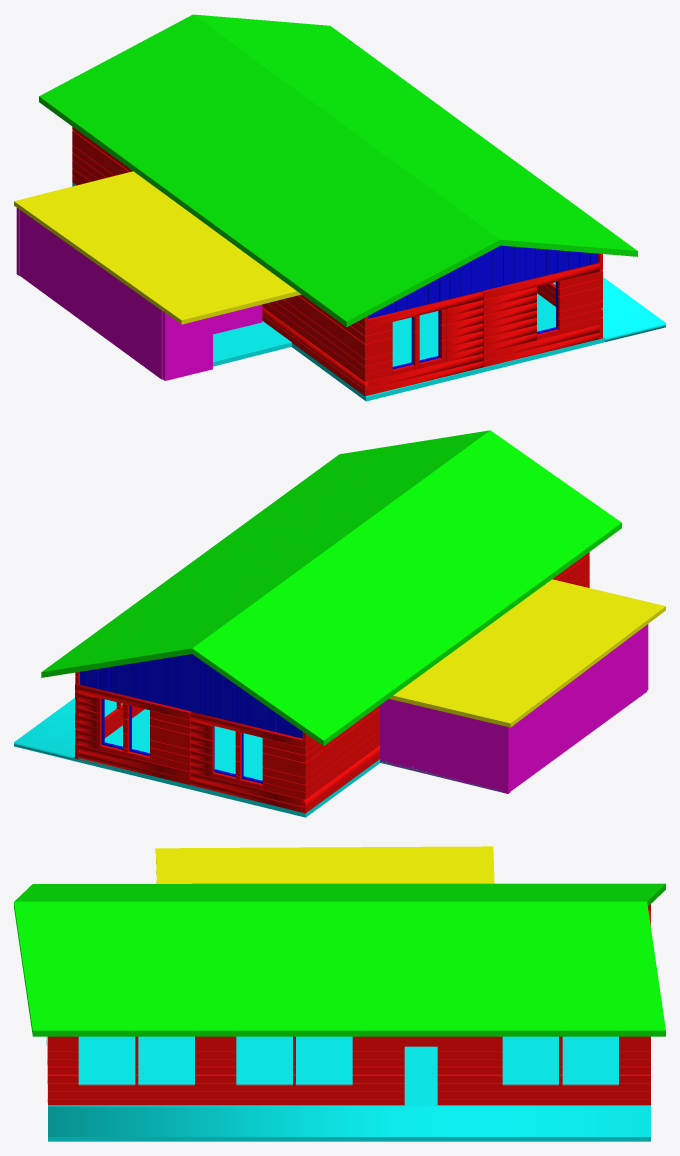
Rendered from Forest Inn.fbx.
The picture shows the model from 3 angles, top to bottom: view 1: azimuth 30°, elevation 25°; view 2: azimuth 150°, elevation 25°; view 3: azimuth 270°, elevation 25°; orthographic projection. The views are drawn at different scales.
Parts seen in each view (by area): view 1: roof, perimetral_walls.157, shed_roof, shed_walls, floor, internal_walls.074, shed_floor; view 2: roof, perimetral_walls.157, shed_roof, shed_walls, internal_walls.074, floor; view 3: roof, floor, perimetral_walls.157, shed_roof.
Part boxes in pixels (x1,y1,x2,y2): roof: (39, 14, 637, 327); perimetral_walls.157: (72, 127, 602, 396); shed_roof: (14, 171, 301, 324); shed_walls: (16, 208, 262, 380); floor: (72, 182, 665, 401); internal_walls.074: (368, 245, 597, 369); shed_floor: (213, 321, 291, 366); roof: (41, 430, 621, 746); perimetral_walls.157: (75, 552, 589, 813); shed_roof: (389, 579, 665, 727); shed_walls: (380, 624, 648, 793); internal_walls.074: (80, 654, 302, 783); floor: (14, 698, 379, 817); roof: (14, 883, 665, 1036); floor: (46, 1036, 650, 1141); perimetral_walls.157: (48, 904, 650, 1105); shed_roof: (155, 846, 494, 883).
Bounding box in the file's own units: 1565 × 495 × 1970.
